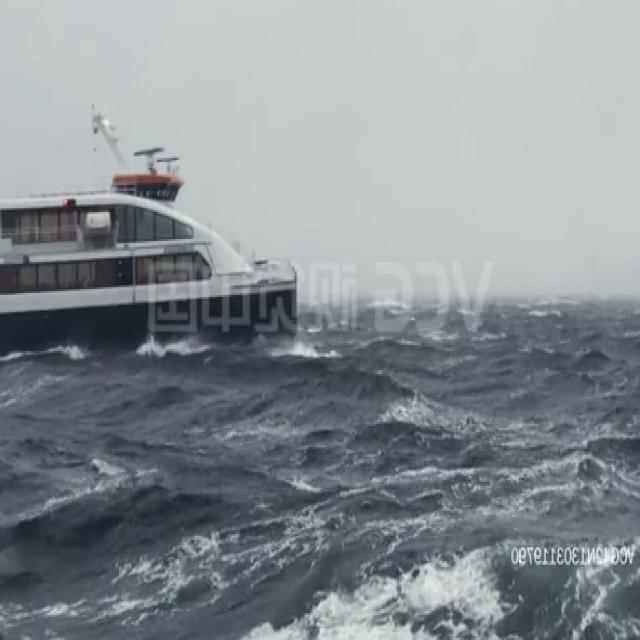passenger ship: (0, 123, 299, 358)
